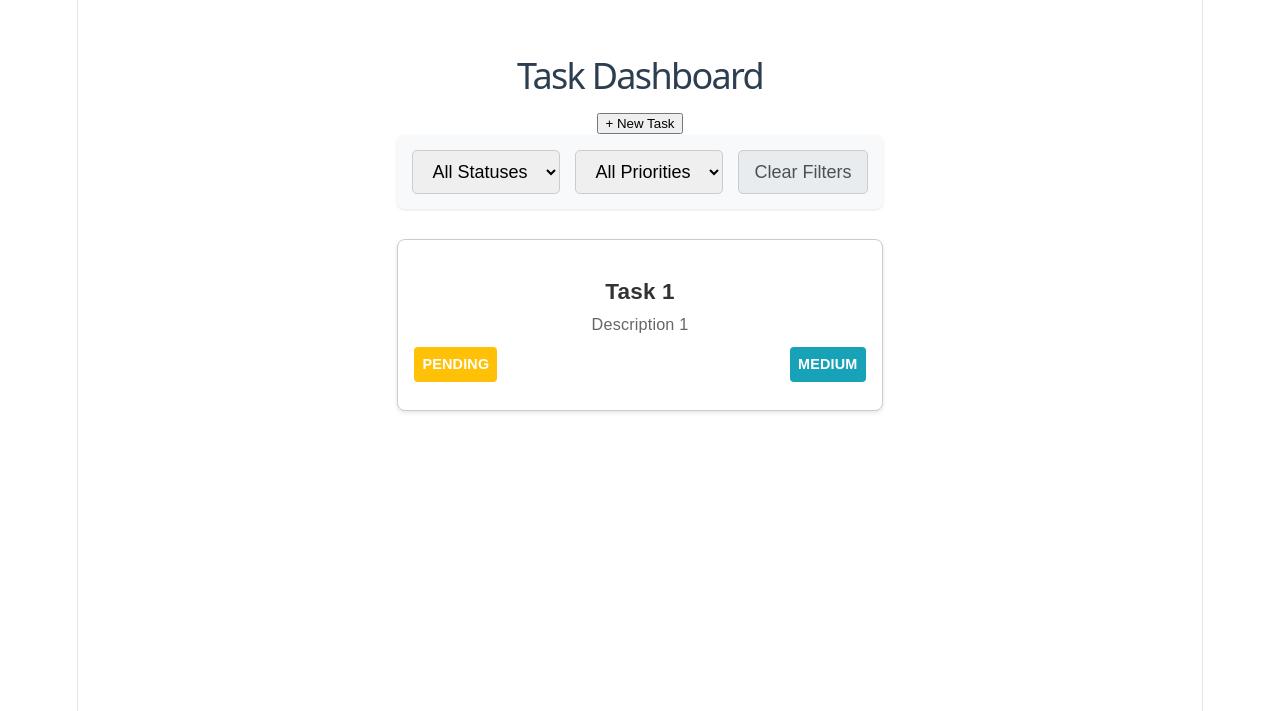
Test: TaskDashboard › opens task details when a task is clicked
What coordinates should you click on to do the following:
click the heading "Task 1"
I would click on:
 (640, 291)
Its box is [605,279,675,304].
(page scrolled)
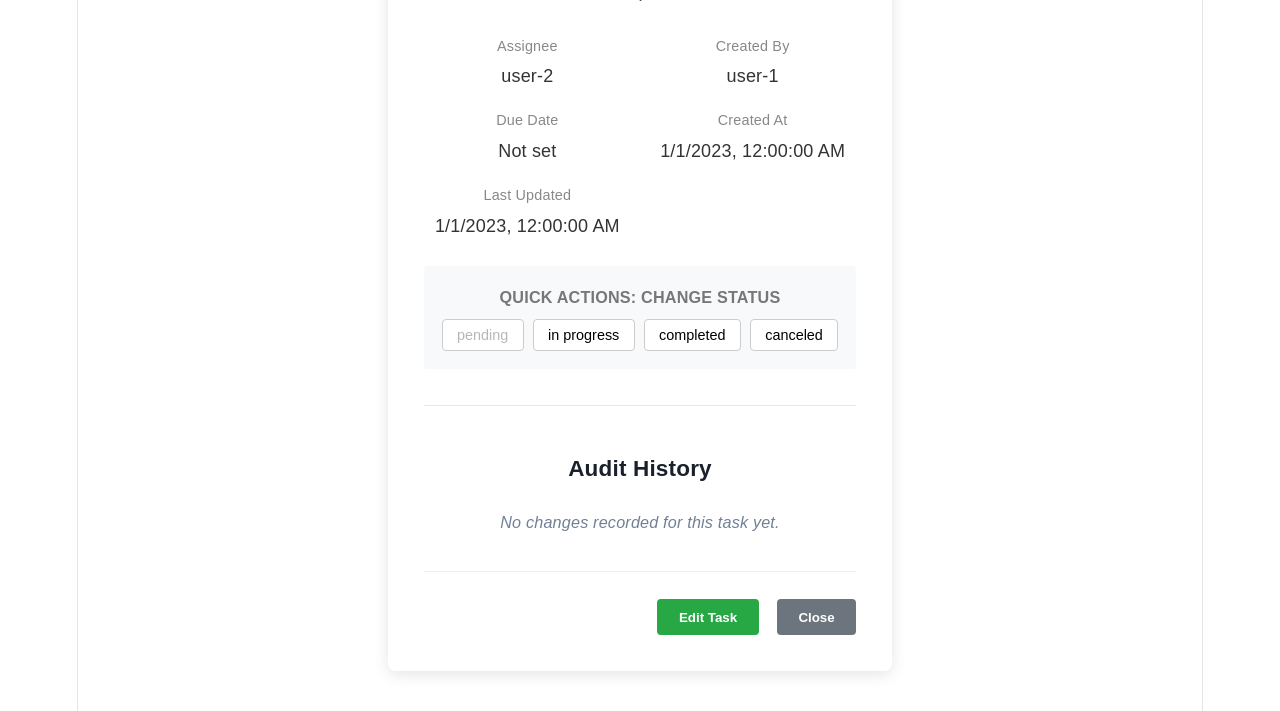
Expected: the button "Edit Task" is shown, [657,599,759,635]
What coordinates should you click on to do the following:
click the button "Close"
I would click on:
 (817, 617)
Its box is [777,599,856,635].
(page scrolled)
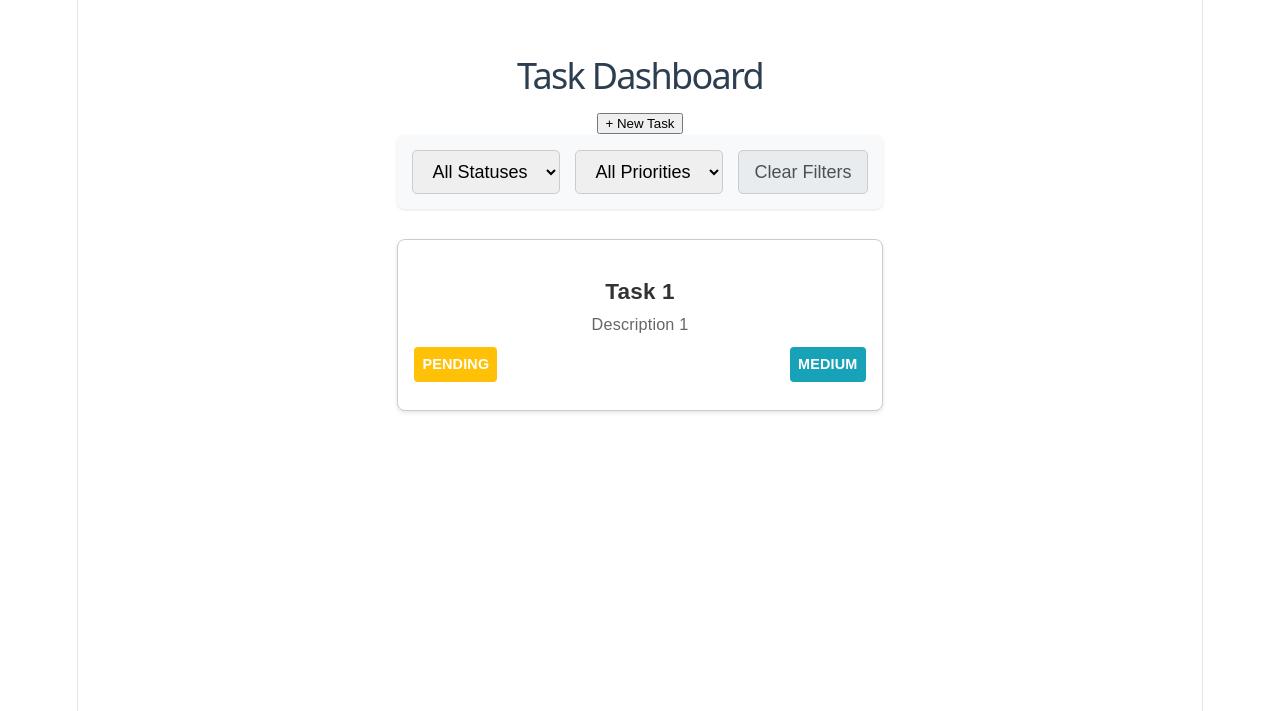
Expected: the button "Close" is gone
